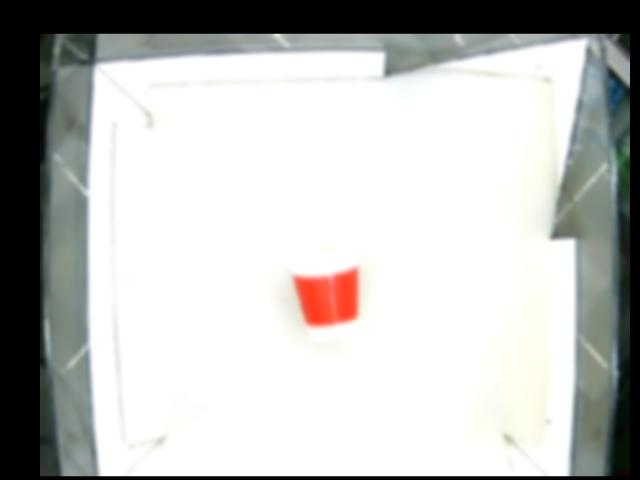Cup: (287, 248, 365, 342)
